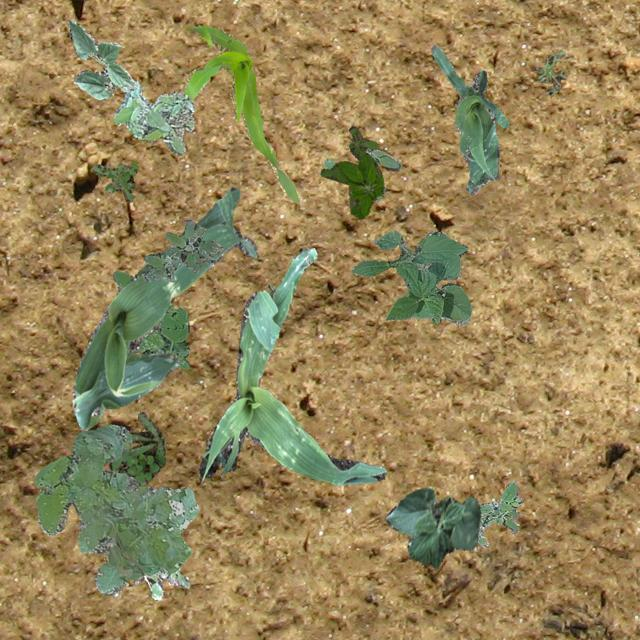crop: (71, 186, 256, 430), (198, 248, 386, 484), (180, 24, 302, 202), (429, 44, 508, 194), (350, 230, 470, 324), (384, 486, 480, 566), (66, 20, 136, 99)
weed: (34, 424, 198, 594), (112, 270, 188, 368), (112, 80, 194, 154), (320, 125, 382, 218), (142, 218, 222, 280), (108, 410, 164, 486), (322, 146, 400, 200), (476, 479, 522, 546), (90, 161, 138, 201), (132, 566, 188, 598), (532, 50, 566, 94)
